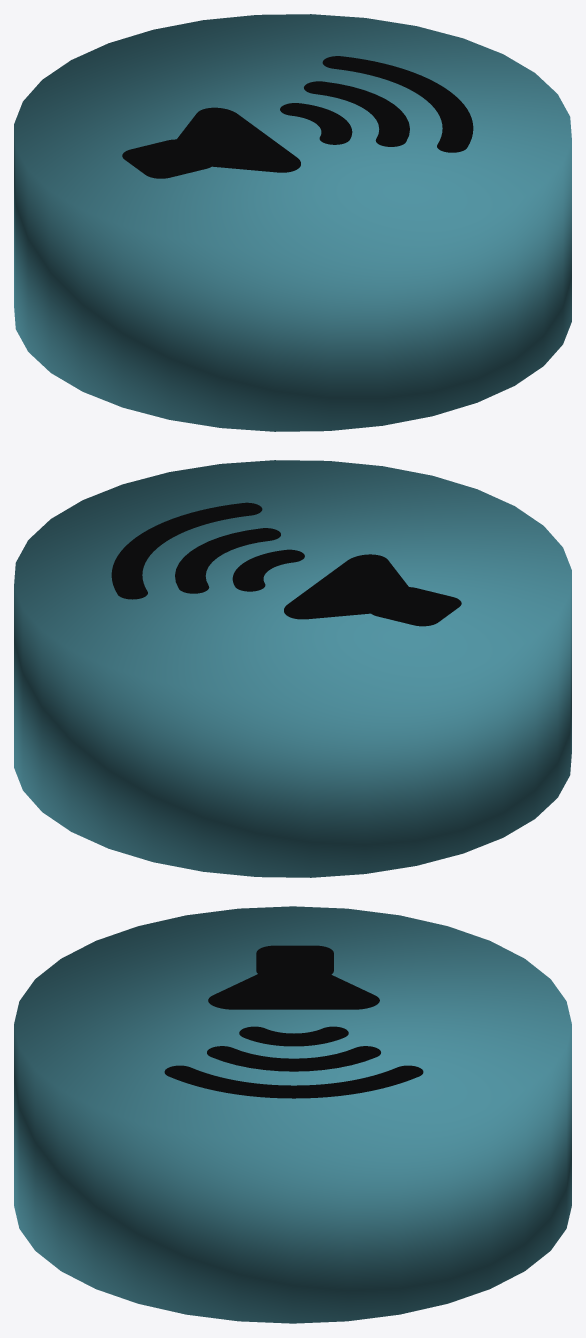
The model's file is soundBtn.fbx.
3 renders of one model, top to bottom at view 1: azimuth 30°, elevation 25°; view 2: azimuth 150°, elevation 25°; view 3: azimuth 270°, elevation 25°, orthographic.
Parts seen in each view (by area): view 1: Curve.001; view 2: Curve.001; view 3: Curve.001.
Boxes of the visible parts, left/top/right/bottom form: Curve.001: left=14, top=14, right=571, bottom=431; Curve.001: left=14, top=460, right=571, bottom=877; Curve.001: left=14, top=906, right=571, bottom=1323.
Size of the model in its own units: 200 by 72.65 by 200.
